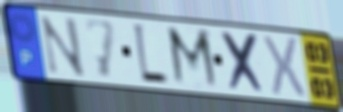7: (83, 16, 118, 82)
L: (130, 20, 171, 88)
M: (164, 24, 223, 93)
N: (38, 14, 88, 79)
X: (219, 29, 269, 97), (261, 33, 308, 101)
